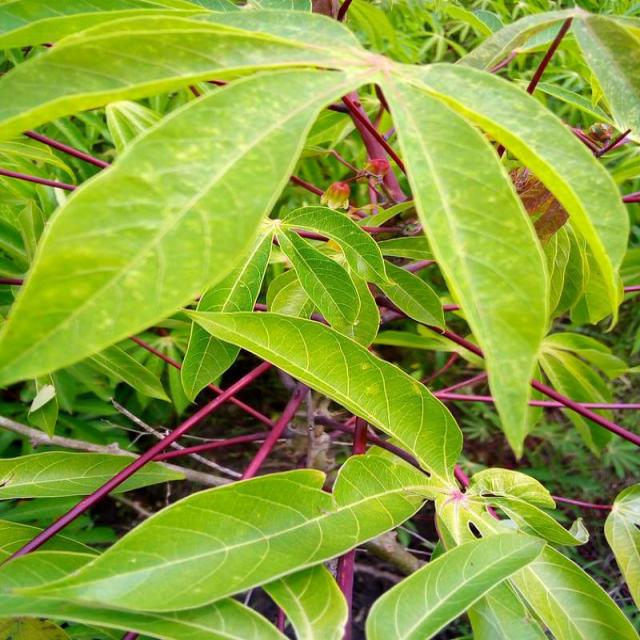cassava leaf: (1, 2, 637, 637), (0, 62, 358, 389), (378, 63, 551, 460), (179, 304, 463, 484)
